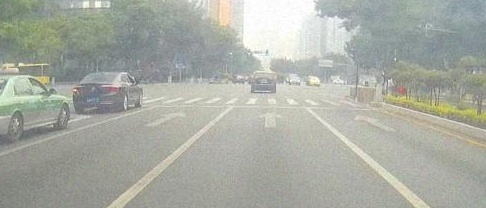L_light: (73, 87, 84, 93)
R_light: (105, 85, 118, 91)
T_light: (100, 74, 107, 76)
day-left: (73, 71, 119, 112)
